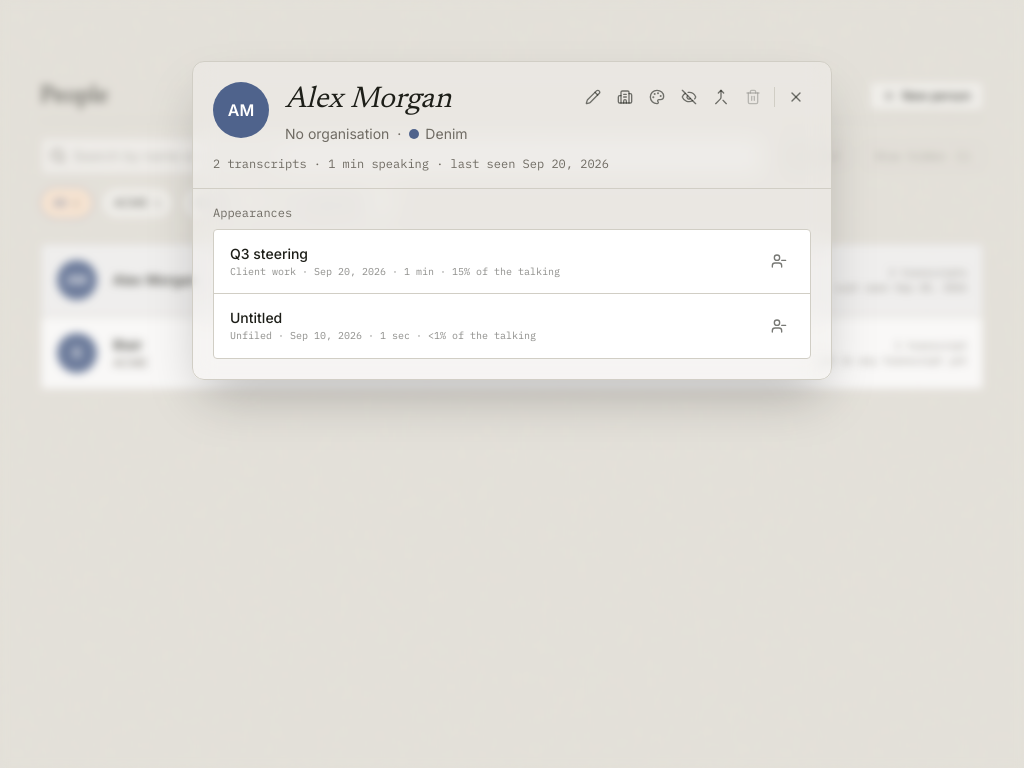
remove from this transcript › a person merged away in another tab reloads instead of offering Retry
The width and height of the screenshot is (1024, 768).
expect the dialog is shown: met, box [192,61,832,380]
expect the heading "Appearances" is shown: met, box [213,205,292,220]
Click the button named "Remove Alex Morgan from “Q3 steering”".
click(779, 261)  # box [764,246,794,276]
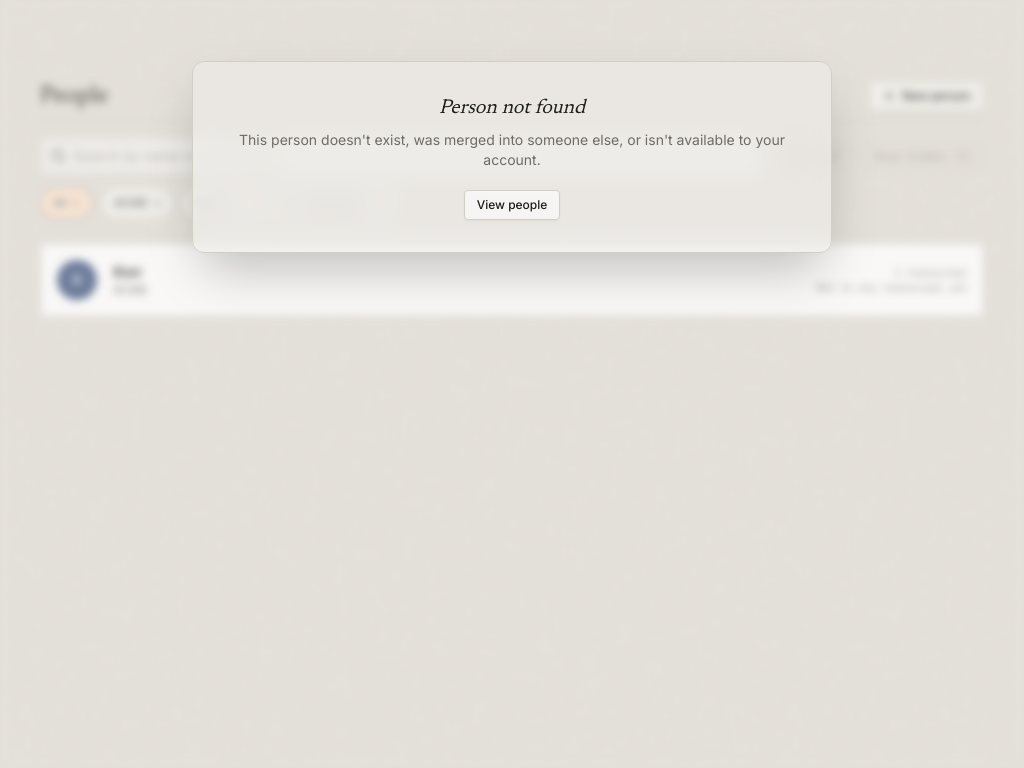
expect the heading "Person not found" is shown: met, box [439,98,585,118]
